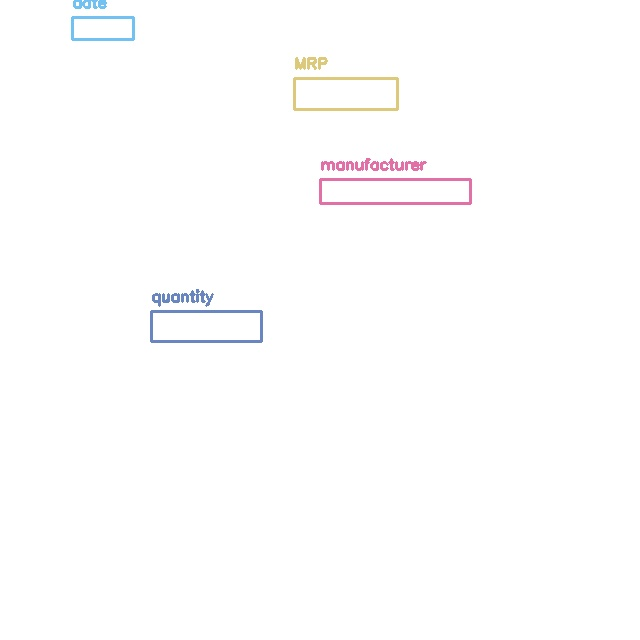MRP: (294, 78, 397, 109)
date: (72, 17, 133, 39)
manufacturer: (320, 179, 470, 203)
quantity: (151, 311, 261, 341)
